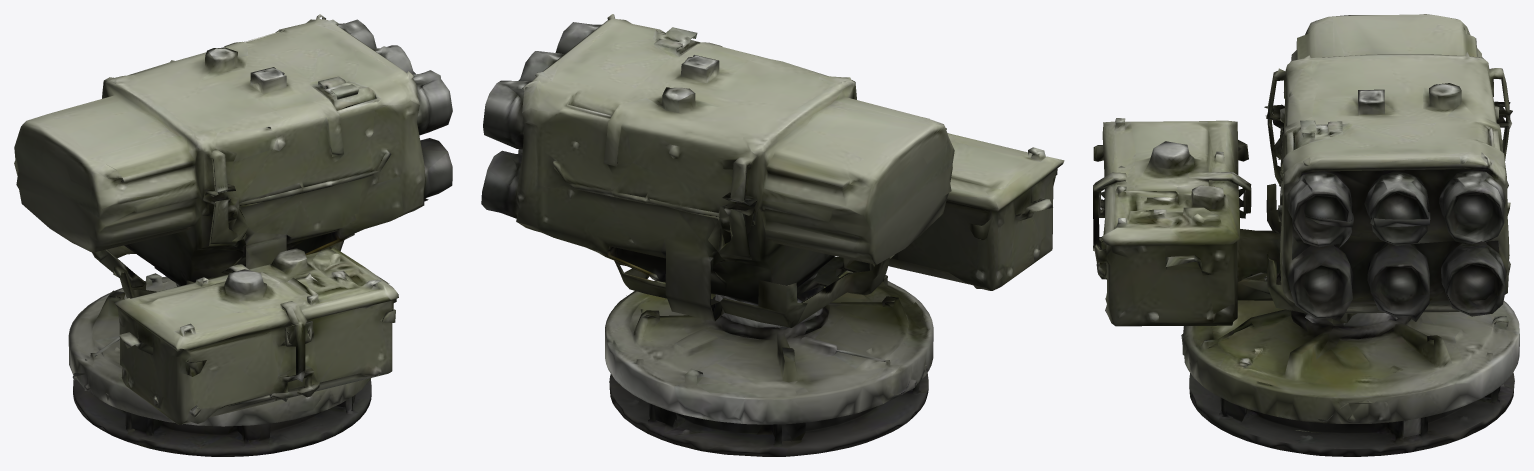
The model's file is tr_rocket.glb.
3 renders of one model, left to right at view 1: azimuth 30°, elevation 25°; view 2: azimuth 150°, elevation 25°; view 3: azimuth 270°, elevation 25°, orthographic. The views are drawn at different scales.
Visible parts, largest first — view 1: tripo_node_afd05cff-a1ff-4a43-862f-15e04e2e00a5; view 2: tripo_node_afd05cff-a1ff-4a43-862f-15e04e2e00a5; view 3: tripo_node_afd05cff-a1ff-4a43-862f-15e04e2e00a5.
Boxes of the visible parts, x1,y1,x2,y2 form: tripo_node_afd05cff-a1ff-4a43-862f-15e04e2e00a5: (14,14,452,456); tripo_node_afd05cff-a1ff-4a43-862f-15e04e2e00a5: (481,14,1064,456); tripo_node_afd05cff-a1ff-4a43-862f-15e04e2e00a5: (1093,14,1519,456).
Size of the model in its own units: 0.9804 by 0.719 by 0.8574.
1 material, 1 textured.
